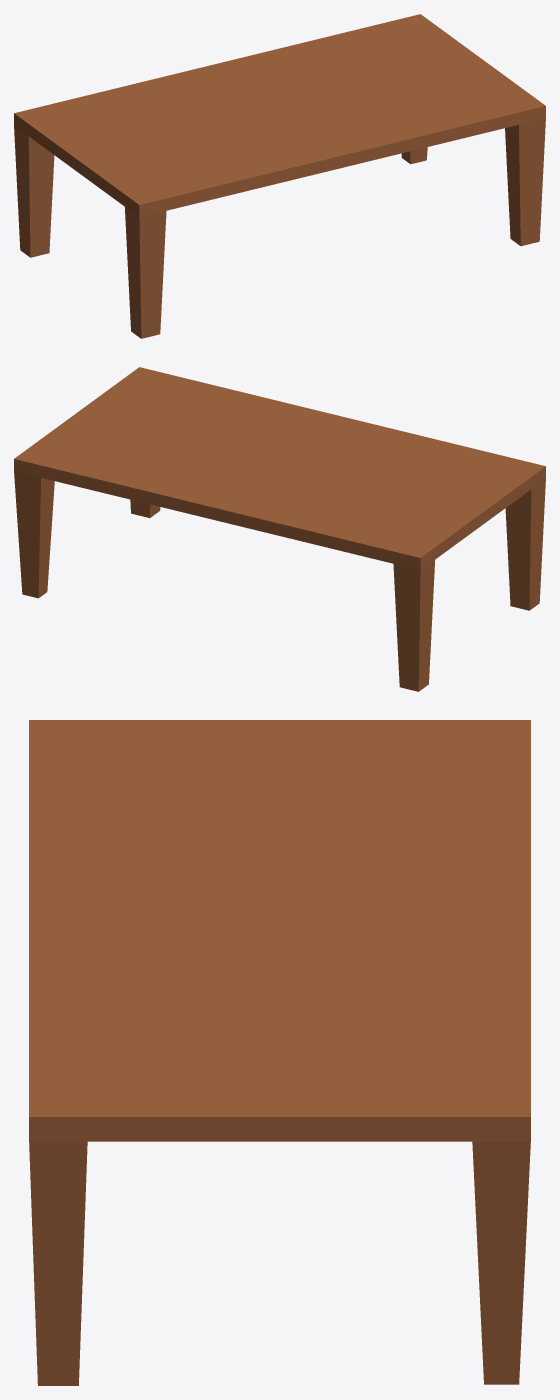
The model's file is TableSalleAManger1.fbx.
3 renders of one model, top to bottom at view 1: azimuth 30°, elevation 25°; view 2: azimuth 150°, elevation 25°; view 3: azimuth 270°, elevation 25°, orthographic. The views are drawn at different scales.
Visible parts, largest first — view 1: Cube; view 2: Cube; view 3: Cube.
Boxes of the visible parts, x1,y1,x2,y2 form: Cube: (14,14,545,338); Cube: (14,367,545,691); Cube: (29,720,530,1385).
Bounding box in the file's own units: 691 × 222 × 369.
